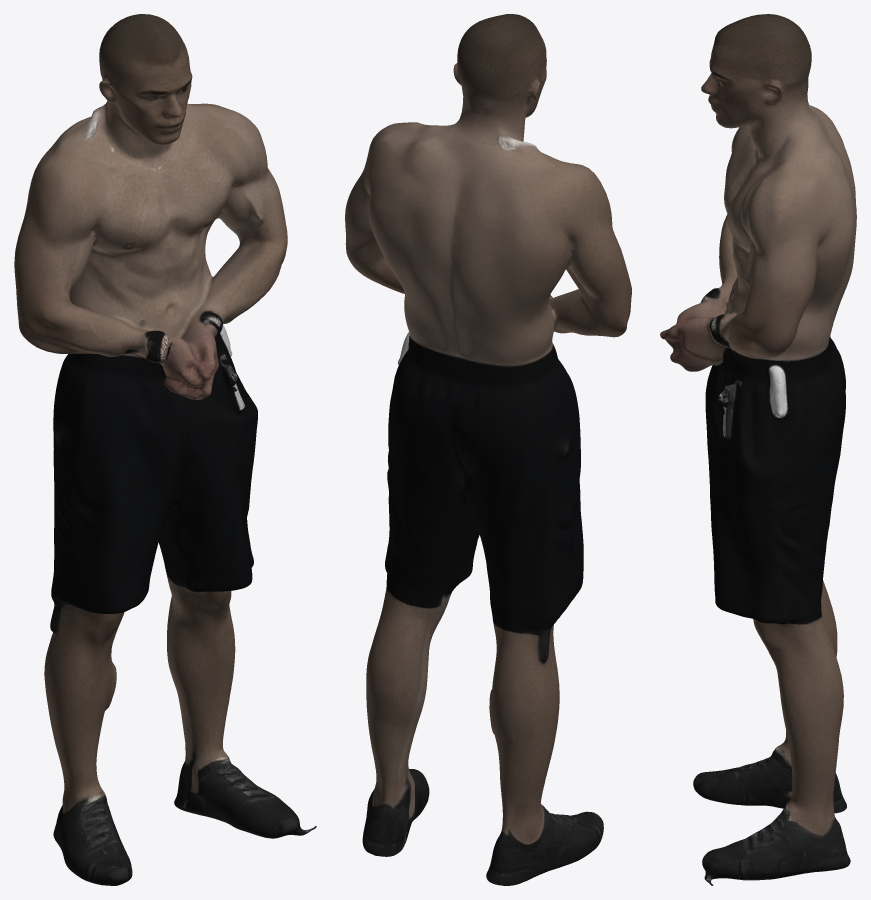
File: derzko.glb
3 renders of one model, left to right at view 1: azimuth 30°, elevation 25°; view 2: azimuth 150°, elevation 25°; view 3: azimuth 270°, elevation 25°, orthographic. The views are drawn at different scales.
Size of the model in its own units: 0.6475 by 1.9 by 0.4189.
1 material, 1 textured.
